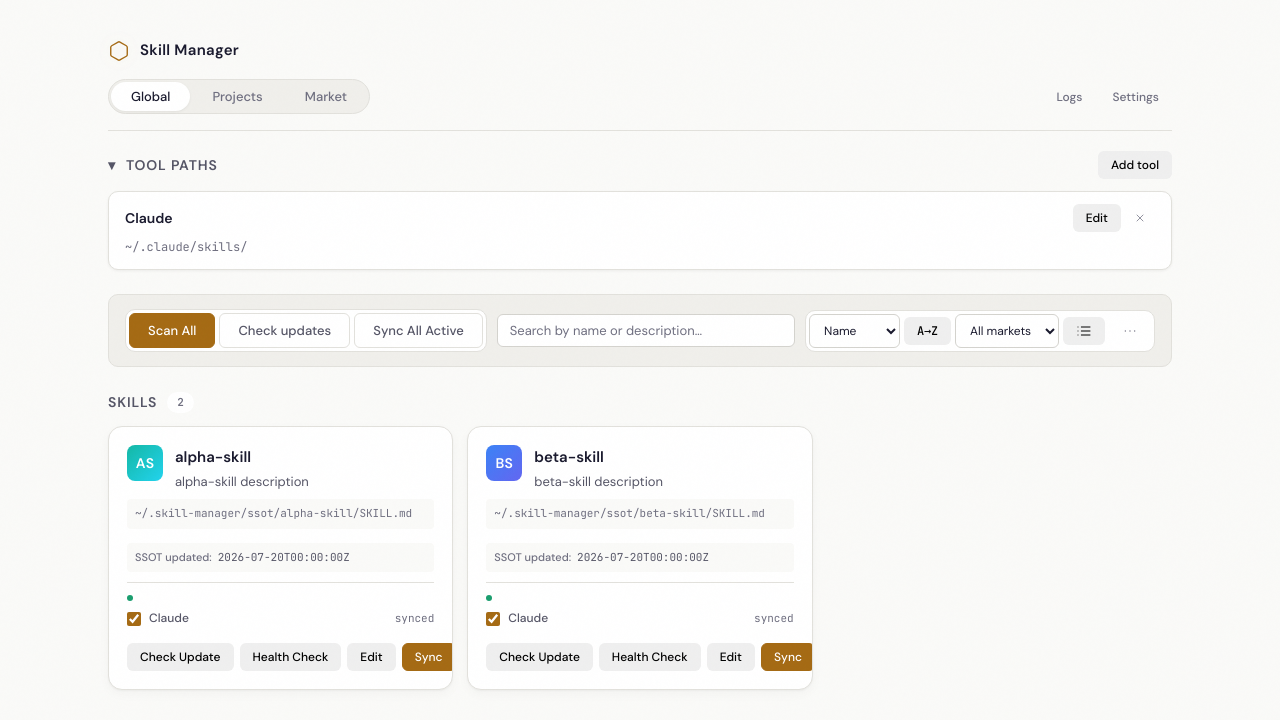
Scenario: App orchestration › filters rendered skill cards by the search query without hitting the backend
expect the heading "alpha-skill" is shown: met, box [175, 447, 251, 467]
expect the button "Scan All" is shown: met, box [129, 313, 215, 348]
Type "beta" into the field with placeholder "Search by name or description…" at coordinates (646, 331), box [497, 314, 795, 347]
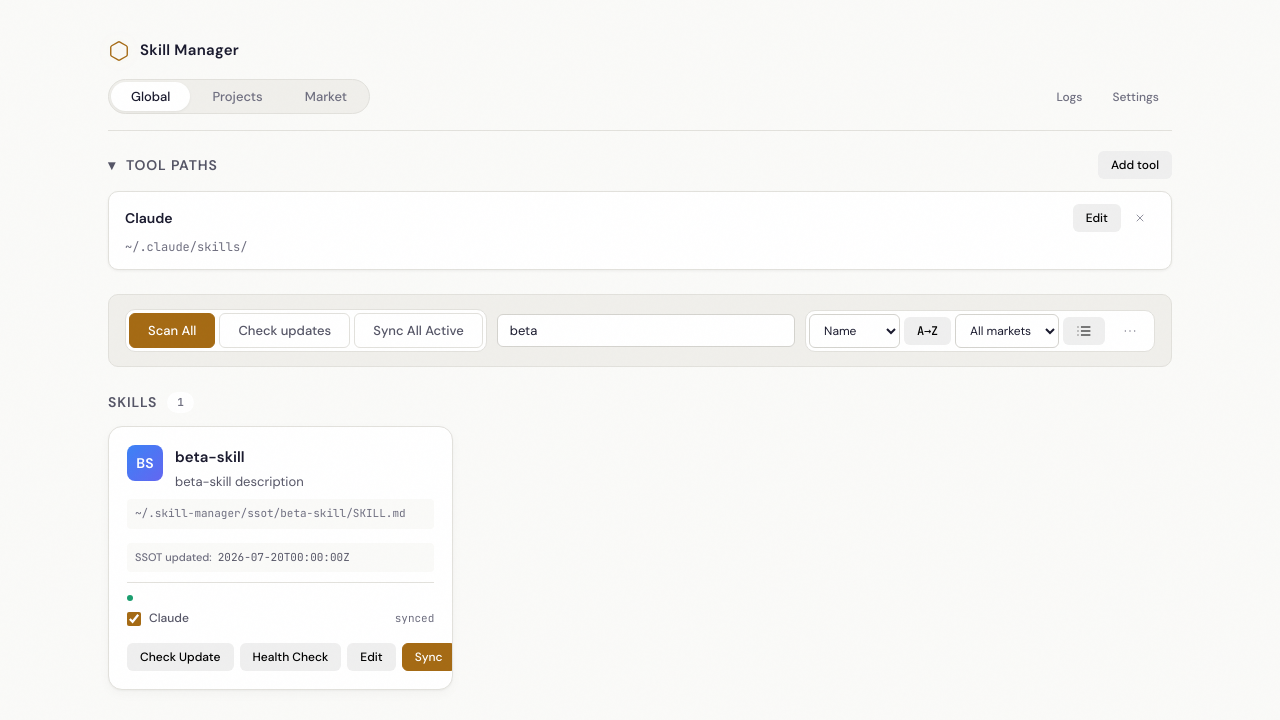
expect the heading "beta-skill" is shown: met, box [175, 447, 245, 467]
expect the heading "alpha-skill" is gone: met
